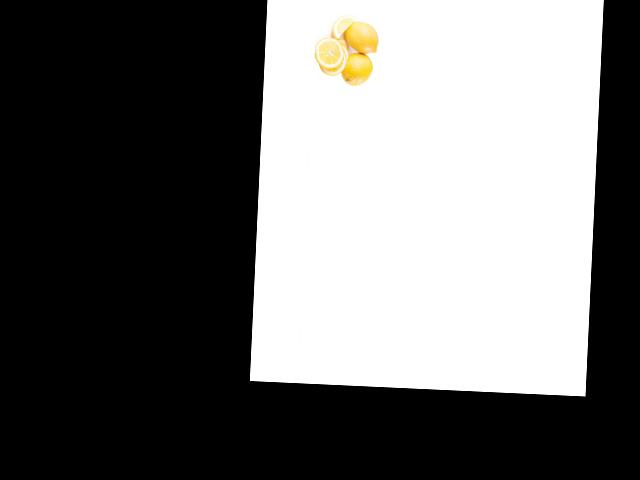lemon: (342, 48, 374, 85)
